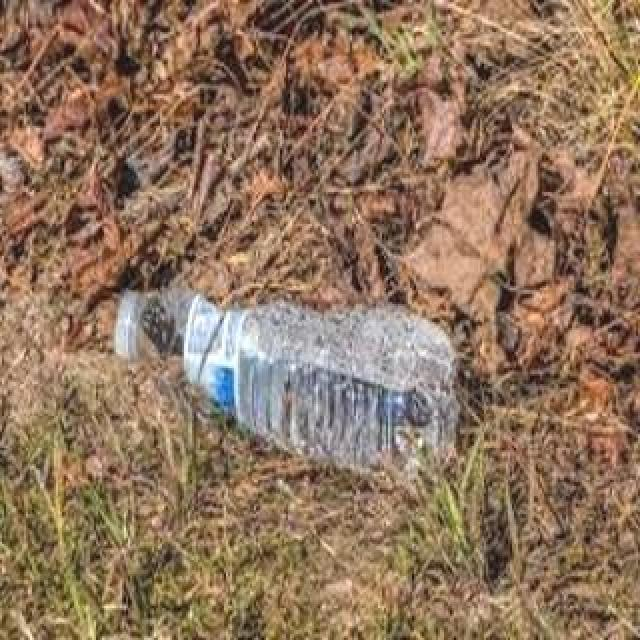Pet_Bottle: (100, 282, 468, 486)
